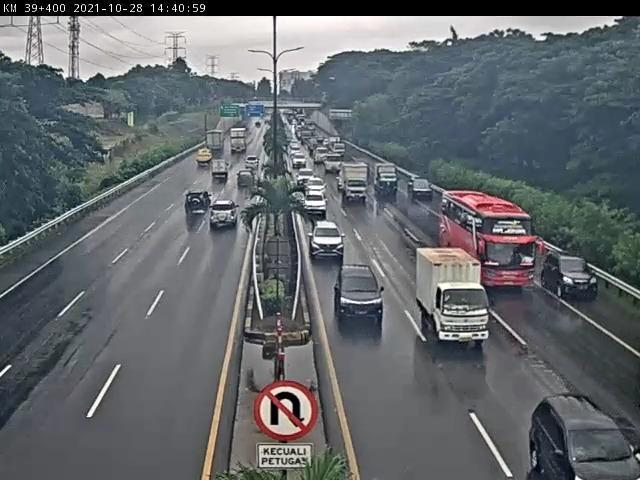bus: (443, 190, 540, 290)
car: (542, 250, 601, 300), (335, 263, 385, 321), (307, 219, 345, 257), (210, 199, 241, 229), (185, 191, 213, 216), (304, 190, 328, 217)
truck: (415, 247, 492, 347)
